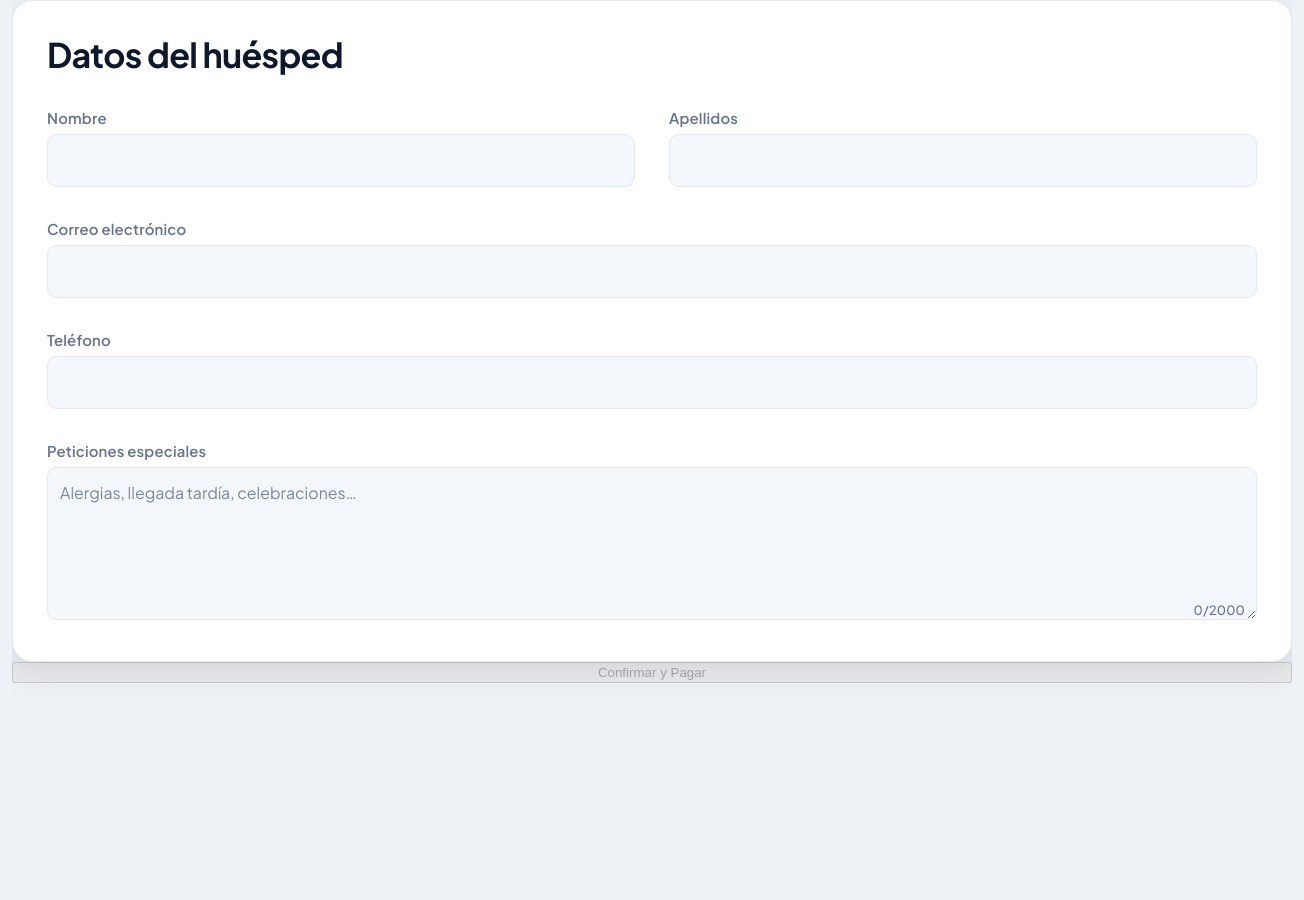
Test: GuestForm (integración con botón de pago) › habilita el botón solo tras completar nombre, apellidos, correo y teléfono válidos
Expected: the button with test id "checkout-confirm-pay" is disabled, [12,662,1292,683]
In the field labelled "Nombre": (341, 161) [47,134,635,187], type "Ana"
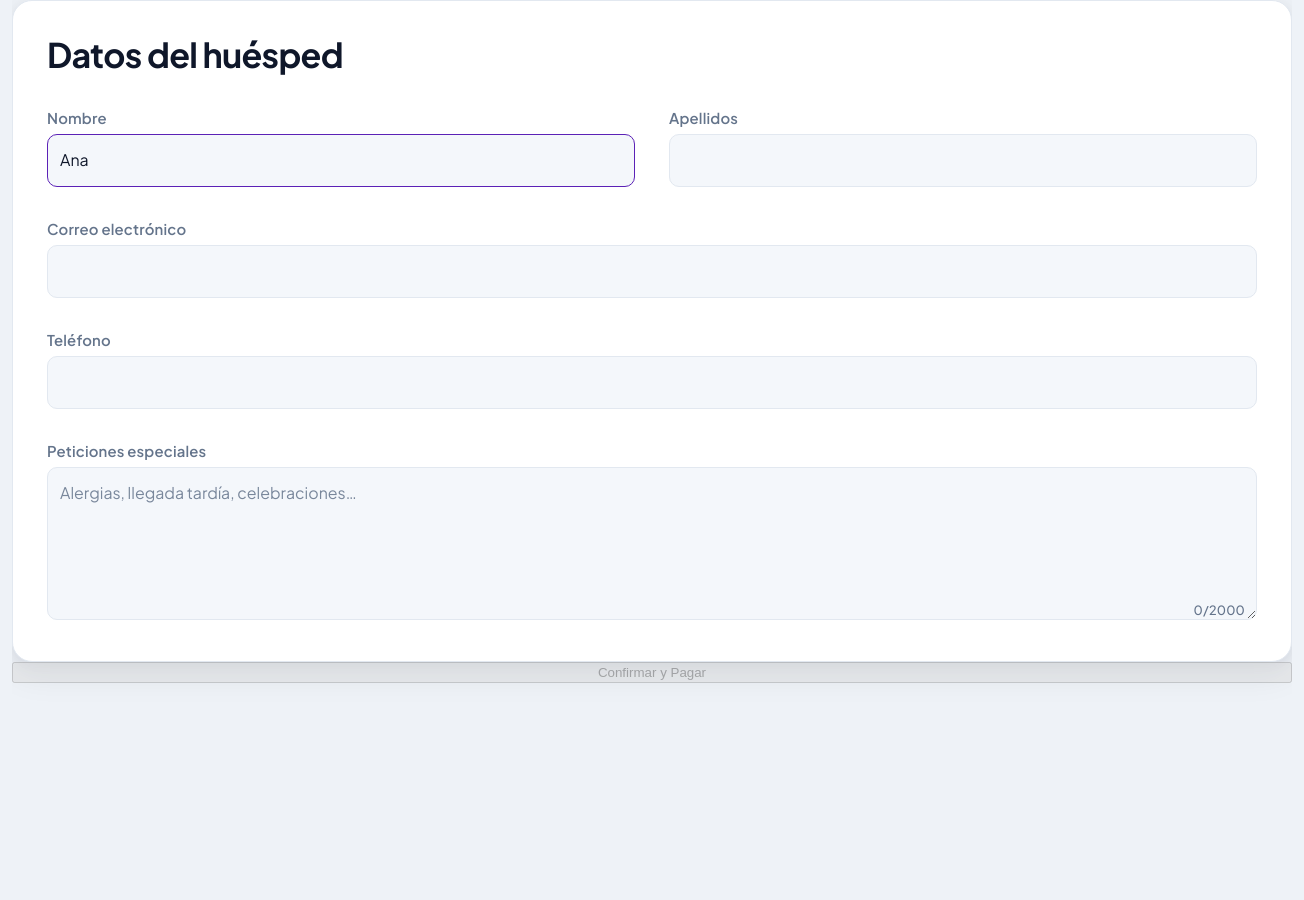
In the field labelled "Apellidos": (963, 161) [669,134,1257,187], type "García López"
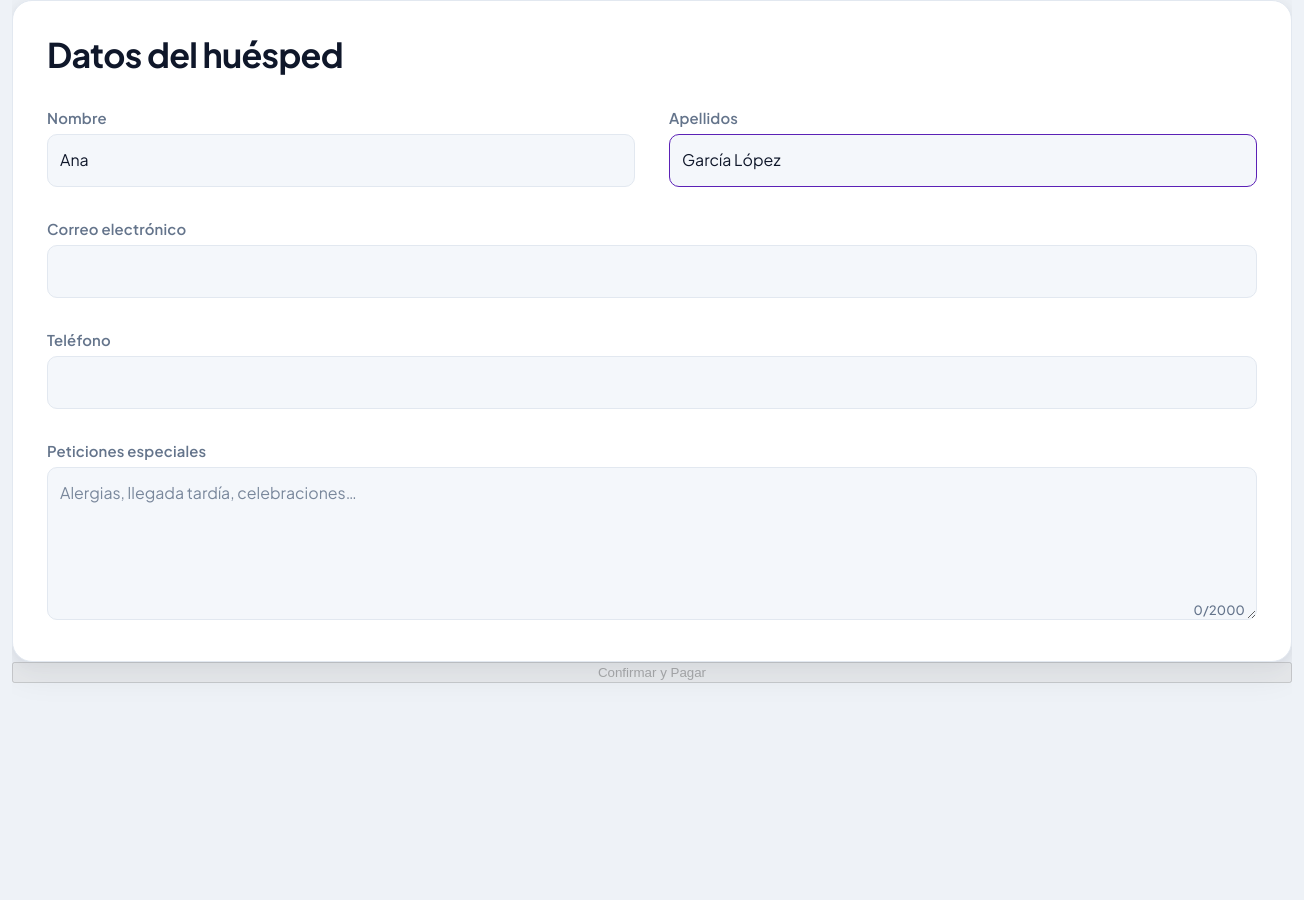
In the field labelled "Correo electrónico": (652, 272) [47,245,1257,298], type "ana@example.com"
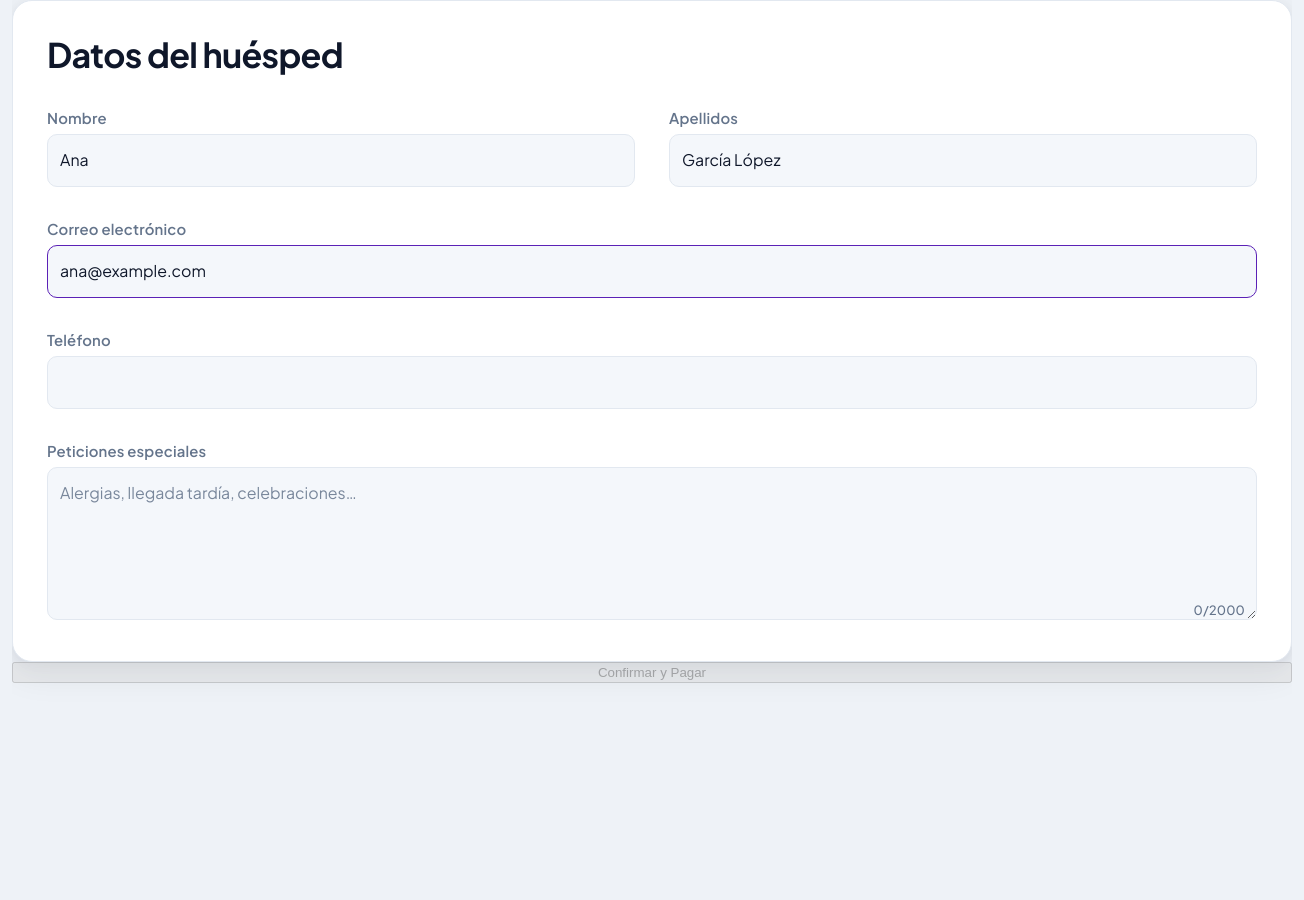
Expected: the button with test id "checkout-confirm-pay" is disabled, [12,662,1292,683]
In the field labelled "Teléfono": (652, 382) [47,356,1257,409], type "600123456"
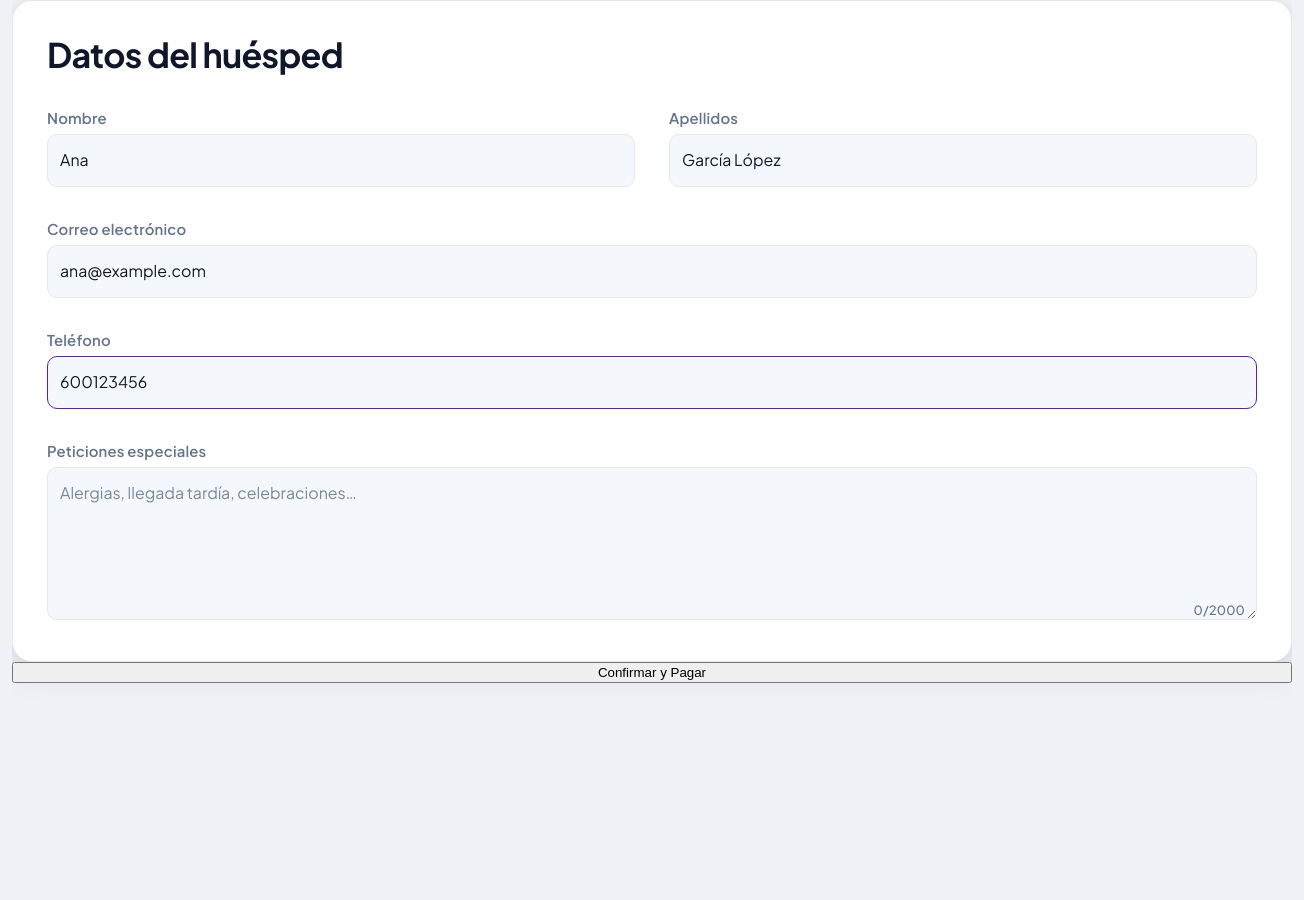
Result: the button with test id "checkout-confirm-pay" is enabled at [12,662,1292,683]
